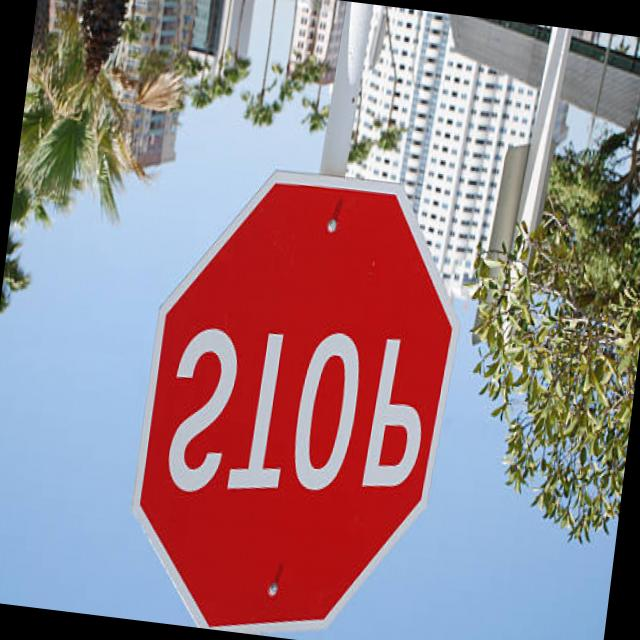stop: (117, 151, 474, 640)
